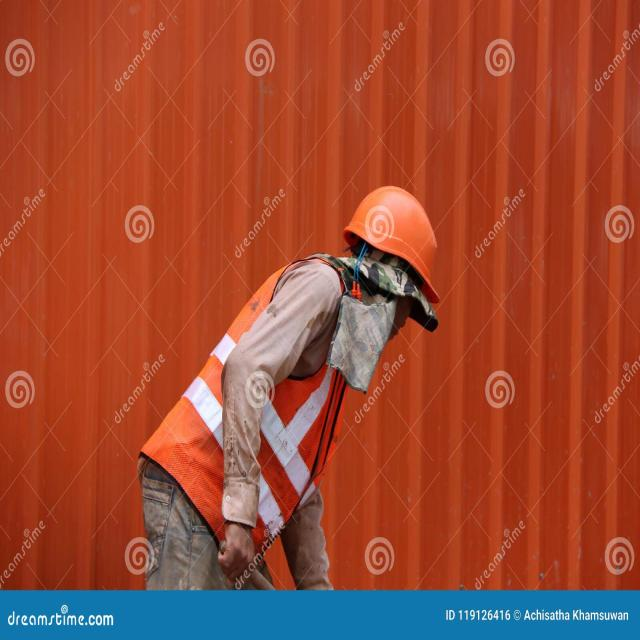helmet: (336, 177, 444, 306)
vest: (139, 251, 356, 568)
